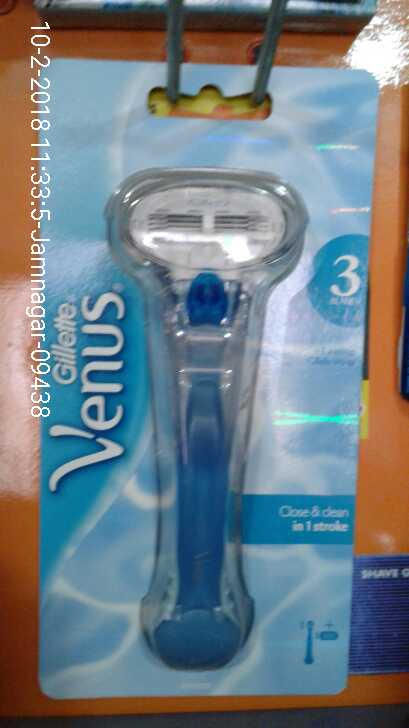venus: (36, 57, 354, 700)
